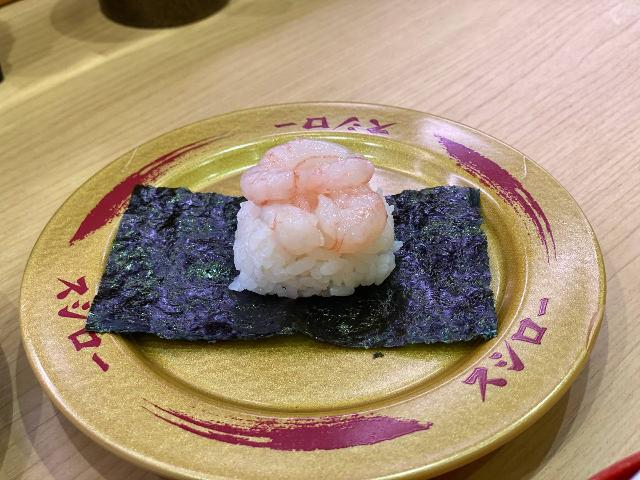jangold: (19, 328, 563, 480), (478, 124, 621, 447), (0, 153, 100, 337), (239, 92, 480, 136), (96, 123, 258, 182)
